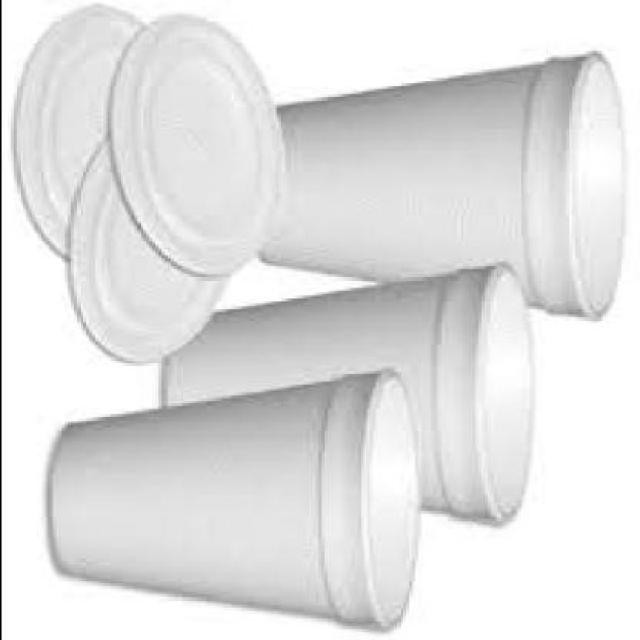PAPER: (263, 48, 632, 314), (163, 258, 532, 522), (51, 371, 423, 629)
PLASTIC: (112, 10, 293, 275), (72, 126, 230, 366), (22, 3, 144, 255)
